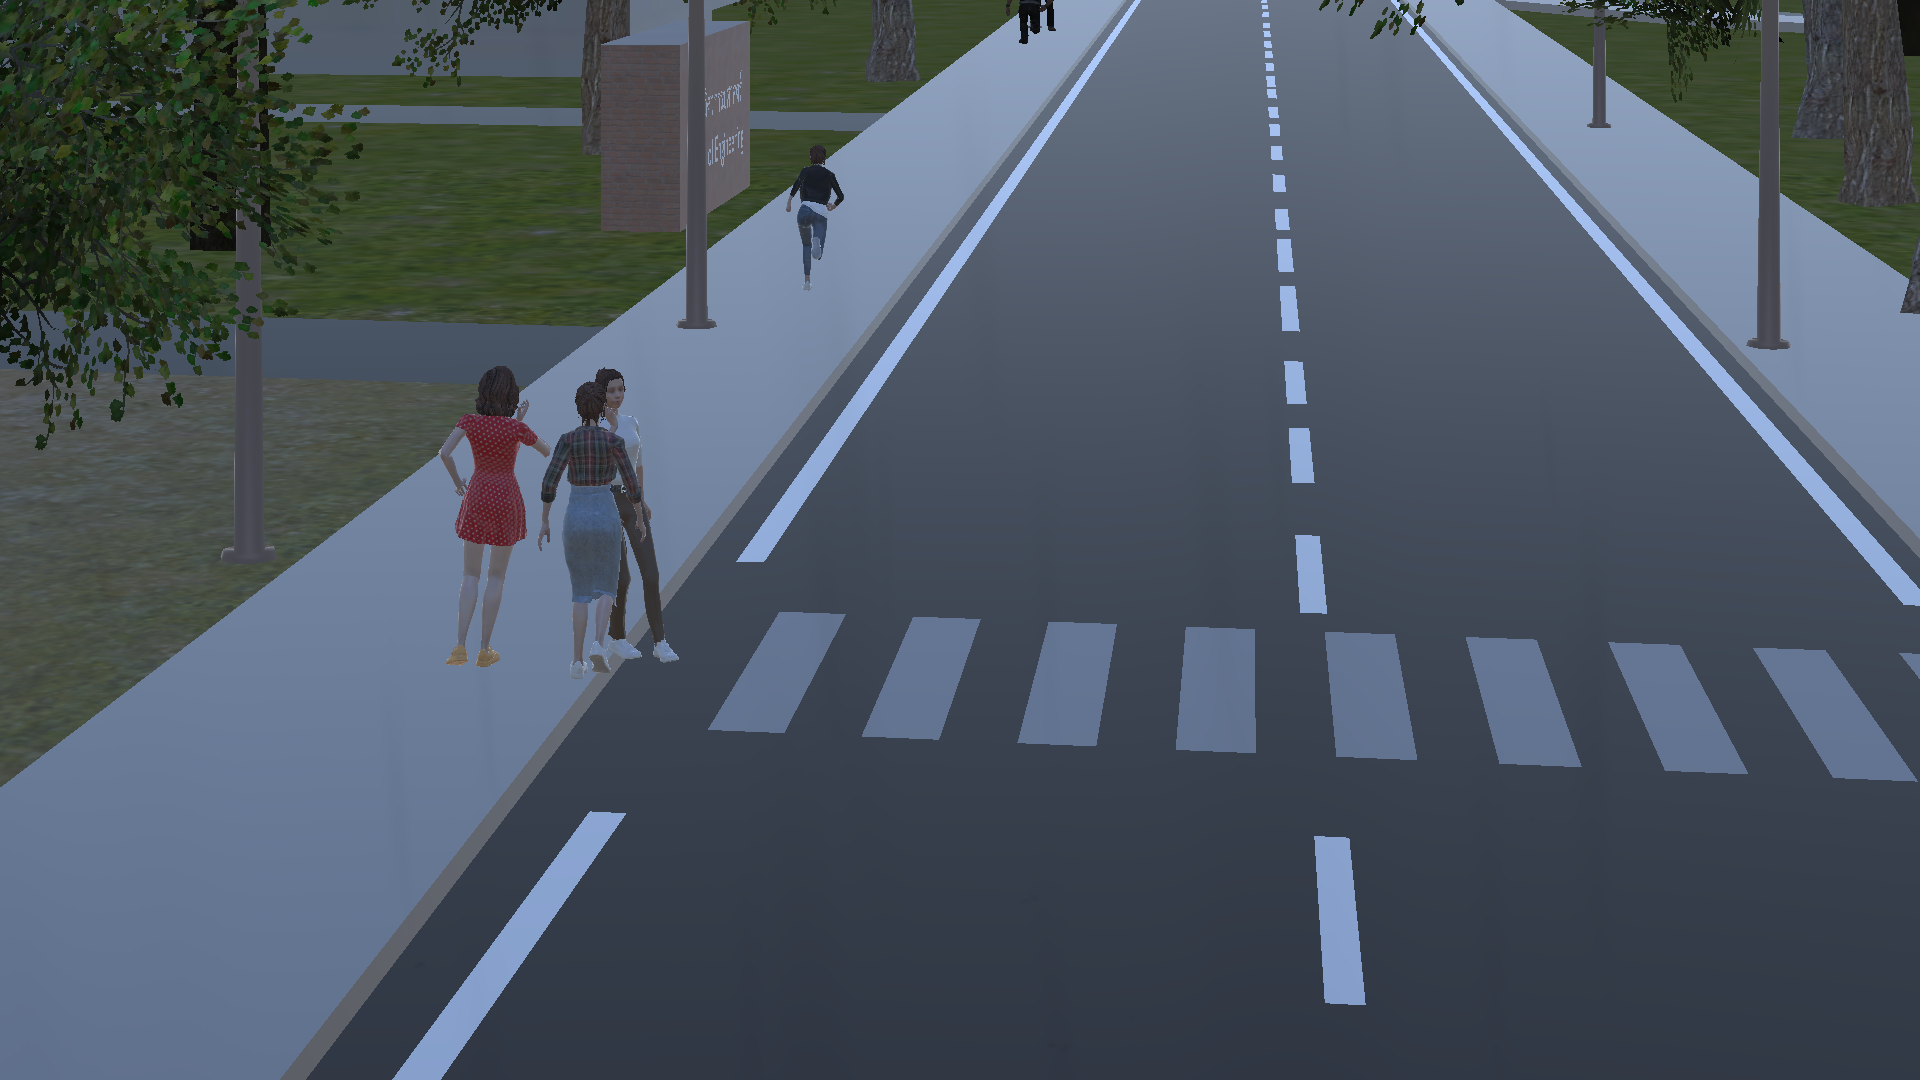pedestrian: (424, 353, 558, 698), (587, 356, 729, 669), (548, 377, 625, 683), (779, 139, 857, 289)
